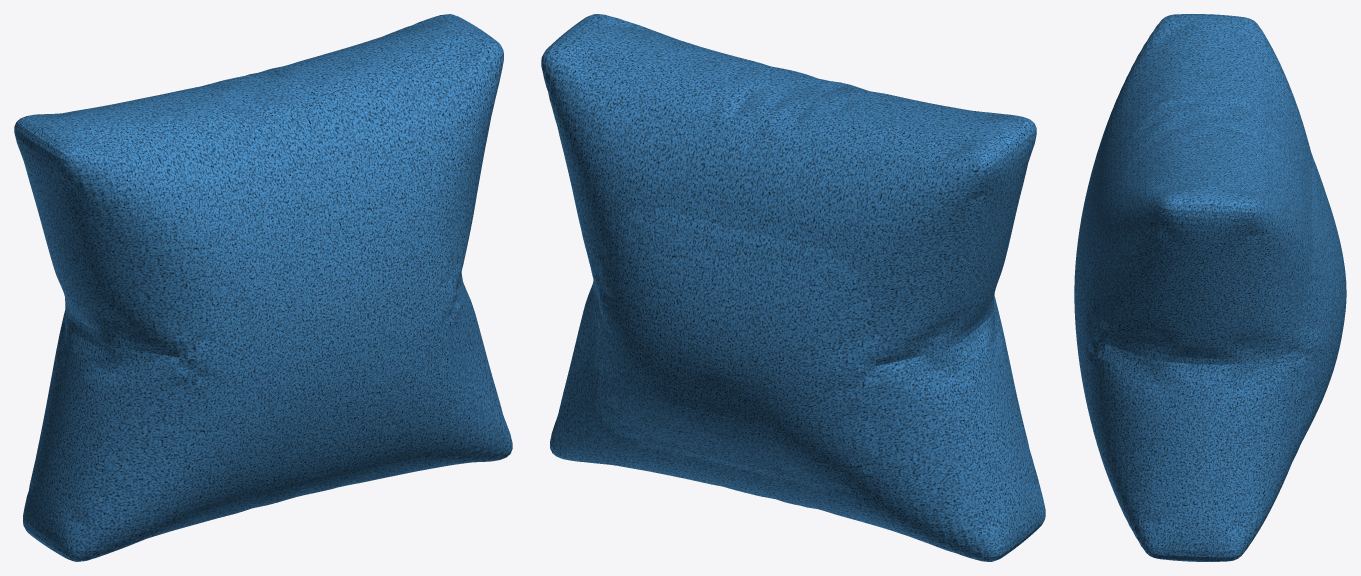
Rendered from pillow.gltf.
3 renders of one model, left to right at view 1: azimuth 30°, elevation 25°; view 2: azimuth 150°, elevation 25°; view 3: azimuth 270°, elevation 25°, orthographic. The views are drawn at different scales.
Parts seen in each view (by area): view 1: Cube; view 2: Cube; view 3: Cube.
Boxes of the visible parts, left/top/right/bottom form: Cube: left=14, top=14, right=512, bottom=561; Cube: left=541, top=14, right=1045, bottom=561; Cube: left=1074, top=14, right=1346, bottom=561.
Size of the model in its own units: 0.331 by 0.2937 by 0.1971.
Materials: 1 (1 with a texture image).
